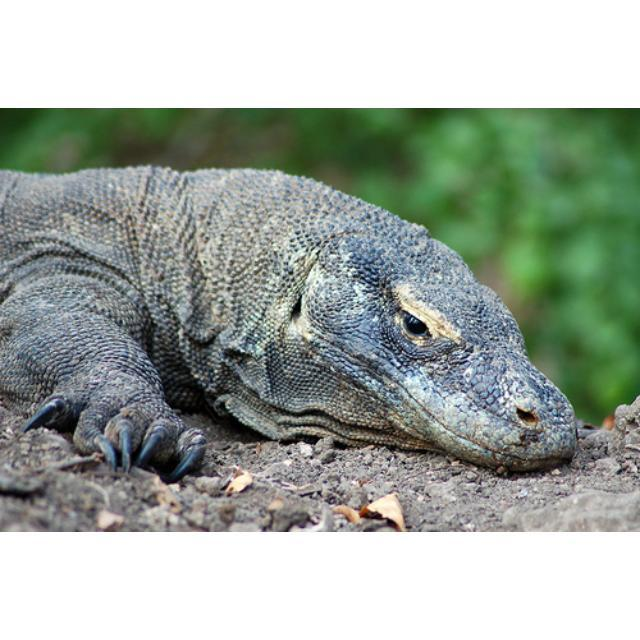KomodoDragon: (0, 162, 584, 498)
